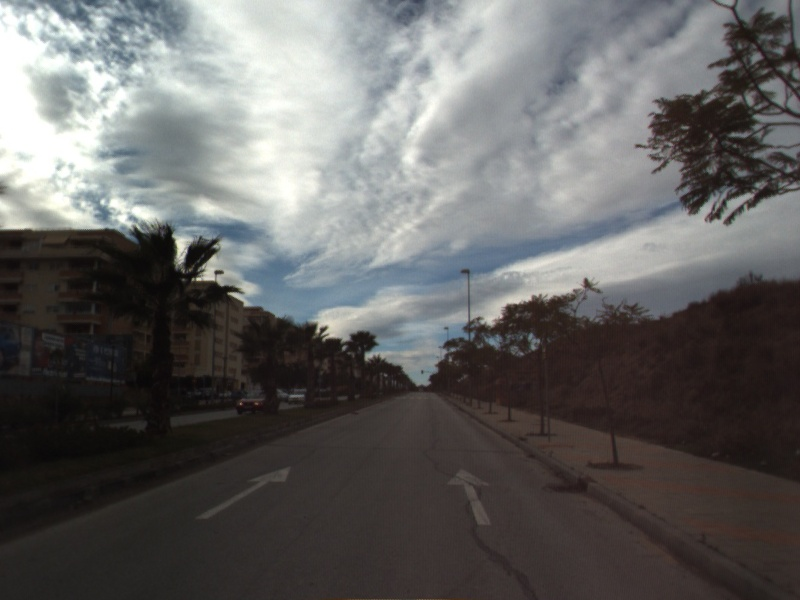STRAIGHT: (194, 464, 293, 521), (445, 466, 493, 527)
